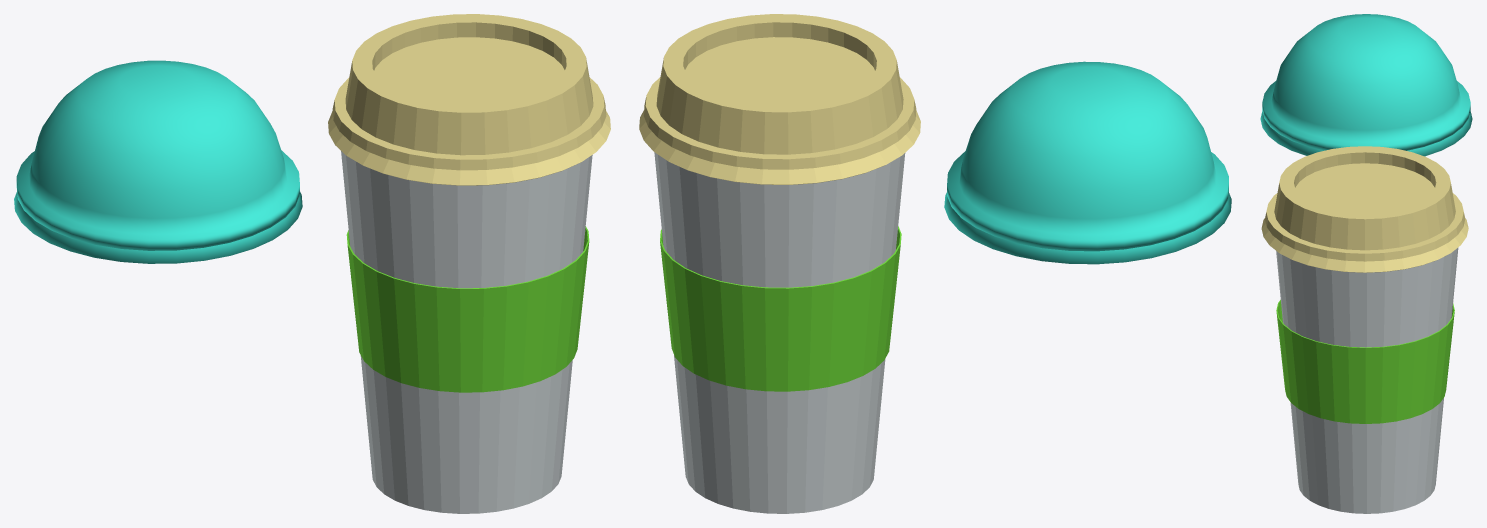
File: coffee_stuck_cup.fbx
The picture shows the model from 3 angles, left to right: view 1: azimuth 30°, elevation 25°; view 2: azimuth 150°, elevation 25°; view 3: azimuth 270°, elevation 25°; orthographic projection. The views are drawn at different scales.
Parts seen in each view (by area): view 1: cup, cover_2, cover, sleeve; view 2: cup, cover_2, cover, sleeve; view 3: cup, cover_2, cover, sleeve.
Part boxes in pixels (x1=…): cup: x1=341, y1=151, x2=592, y2=513; cover_2: x1=14, y1=60, x2=302, y2=263; cover: x1=328, y1=14, x2=610, y2=185; sleeve: x1=346, y1=226, x2=589, y2=392; cup: x1=654, y1=152, x2=905, y2=513; cover_2: x1=944, y1=61, x2=1231, y2=264; cover: x1=639, y1=14, x2=920, y2=184; sleeve: x1=660, y1=226, x2=901, y2=391; cup: x1=1276, y1=247, x2=1458, y2=513; cover_2: x1=1260, y1=14, x2=1472, y2=156; cover: x1=1261, y1=146, x2=1468, y2=272; sleeve: x1=1276, y1=300, x2=1454, y2=423.
Size of the model in its own units: 247 by 201 by 111.
